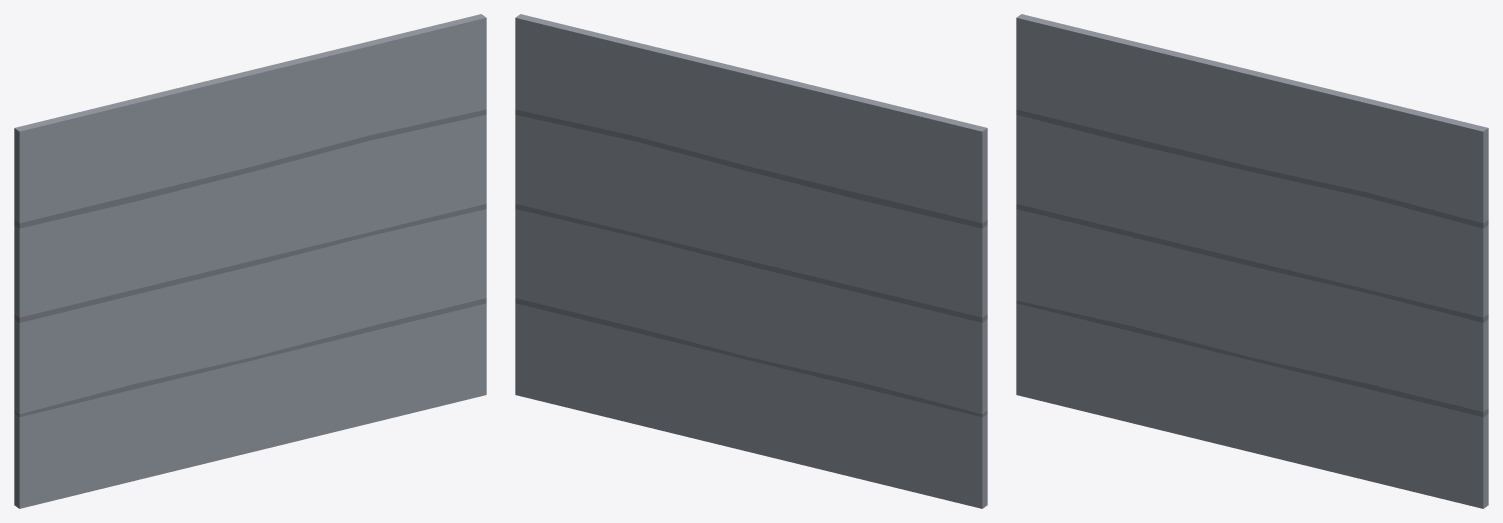
Rendered from Wall_06_2.fbx.
The picture shows the model from 3 angles, left to right: view 1: azimuth 30°, elevation 25°; view 2: azimuth 150°, elevation 25°; view 3: azimuth 330°, elevation 25°; orthographic projection.
Parts seen in each view (by area): view 1: Wall_06_2; view 2: Wall_06_2; view 3: Wall_06_2.
Boxes of the visible parts, bbox=[...] form: Wall_06_2: bbox=[14, 14, 486, 508]; Wall_06_2: bbox=[515, 14, 987, 508]; Wall_06_2: bbox=[1016, 14, 1488, 508].
Bounding box in the file's own units: 376 × 291 × 7.18.
